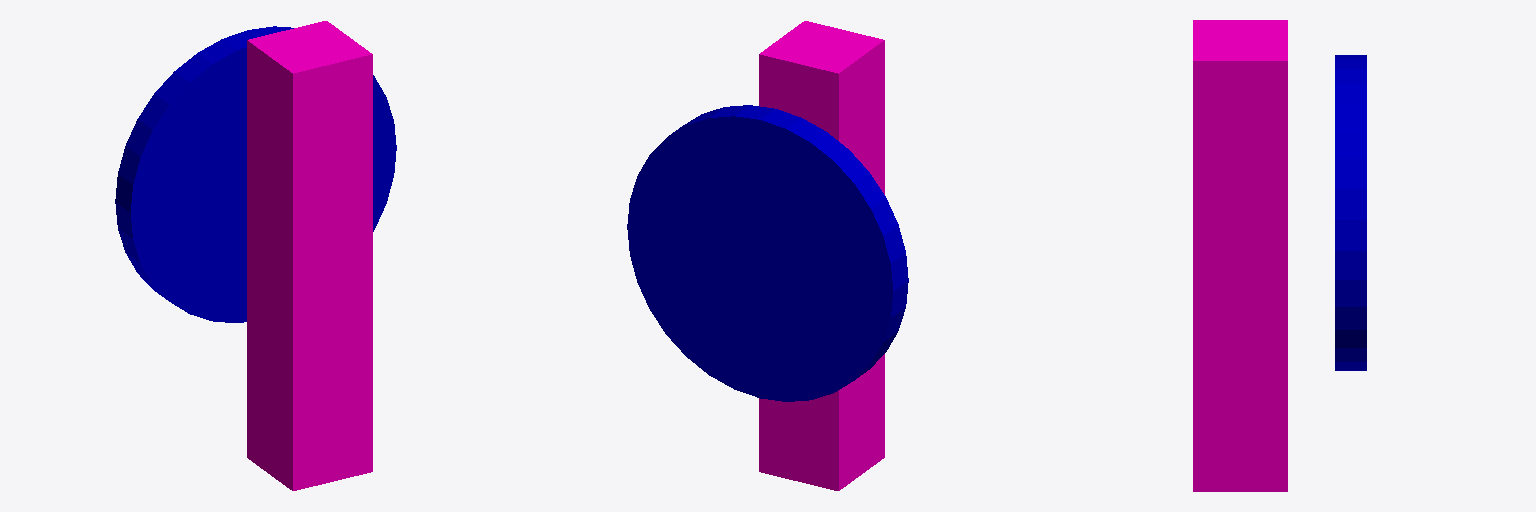
The robot description file, URDF, robot "myfirst":
<?xml version="1.0"?>
<!--https://valerolab.org/-->
<!--
Code used for PID control of an inverted pendulum actuated by strings.
-->
<robot name="myfirst">
  <material name="blue">
    <color rgba="0 0 0.8 1"/>
  </material>
  <material name="white">
    <color rgba="1 1 1 1"/>
  </material>
  <material name="other">
    <color rgba="1 0 0.8 1"/>
  </material>
  <velocity name="vel">
    <speed spd="50"/>
  </velocity>
  

  <link name="Base">
    <visual>
      <geometry>
        <box size="0.3 0.3 1.5"/>
      </geometry>
      <material name="other"/>
    </visual>
    <collision>
      <geometry>
        <box size="0.3 0.3 1.5"/>
      </geometry>
    </collision>
    <inertial>
      <mass value="100"/>
      <origin rpy="0 0 0" xyz="0 0 0"/>
      <inertia ixx="0" ixy="0.0" ixz="0.0" iyy="0" iyz="0.0" izz="0"/>
    </inertial>
  </link>

 <link name="pulley1">
    <visual>
      <geometry>
        <cylinder length=".1" radius=".5"/>
      </geometry>
      <material name="blue"/>
    </visual>
    <collision>
      <geometry>
        <cylinder length=".1" radius=".5"/>
      </geometry>
    </collision>
    <inertial>
      <mass value="2"/>
      <inertia ixx="0" ixy="0.0" ixz="0.0" iyy="0" iyz="0.0" izz="0"/>
    </inertial>
  </link>
  <joint name="Base_pulley1" type="revolute">
    <axis xyz="0 0 1"/>
    <parent link="Base"/>
    <child link="pulley1"/>
    <limit effort="0" lower="1" upper="0" velocity="50"/>
    <origin rpy="-1.57075 0 0" xyz="0 .35 .15"/>
  </joint>
<!---->
</robot>

--- What the picture shows (computed from the rendered views, not written in the file) ---
The picture shows the robot from 3 angles, left to right: view 1: azimuth 30°, elevation 25°; view 2: azimuth 150°, elevation 25°; view 3: azimuth 270°, elevation 25°; orthographic projection.
Robot: myfirst — 2 links, 1 joints (1 revolute); root link Base; default pose: every joint at zero.
Links seen in each view (by area): view 1: Base, pulley1; view 2: pulley1, Base; view 3: Base, pulley1.
Link boxes in pixels (box(x1,y1,x2,y2)): Base: box(247, 21, 372, 490); pulley1: box(115, 26, 396, 322); pulley1: box(627, 105, 908, 401); Base: box(759, 21, 884, 490); Base: box(1193, 20, 1287, 491); pulley1: box(1335, 55, 1366, 370).
Bounding box of the posed robot: 1 × 0.55 × 1.5 m (x, y, z).
Geometry: primitives only (box / cylinder / sphere), no mesh files.